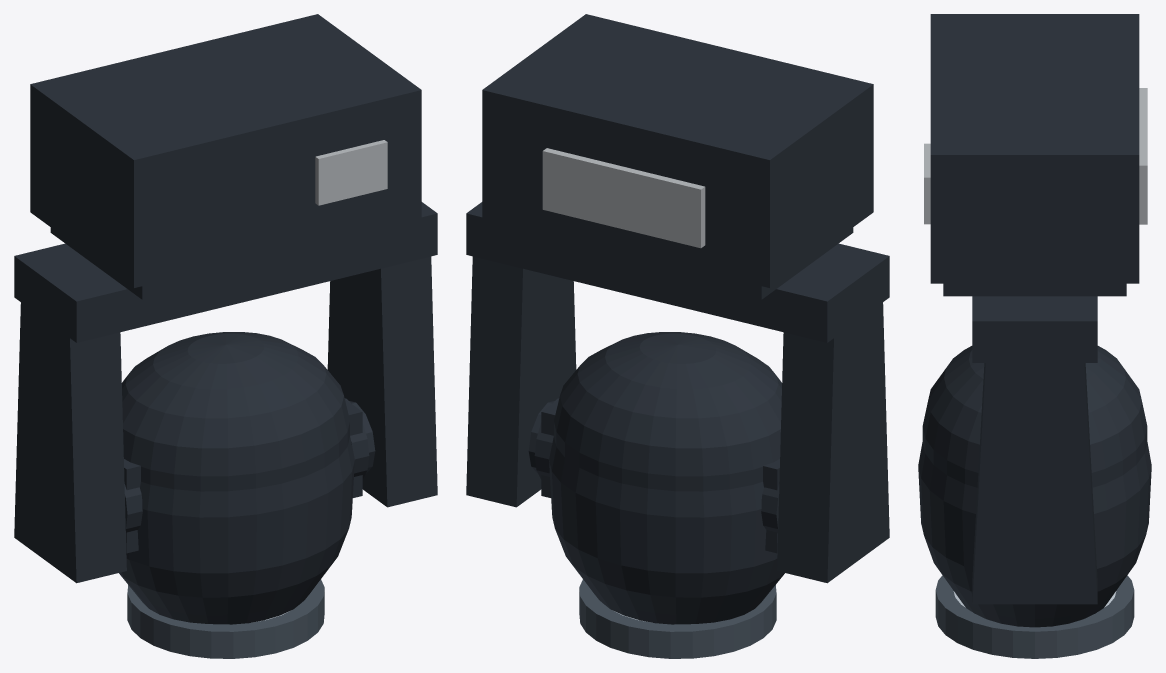
The model's file is moving-head-wash-no-clamp.glb.
3 renders of one model, left to right at view 1: azimuth 30°, elevation 25°; view 2: azimuth 150°, elevation 25°; view 3: azimuth 270°, elevation 25°, orthographic.
Visible parts, largest first — view 1: moving-base, head-body, yoke-left, yoke-right, yoke-crossbar, lens-ring, base-display, head-cheeks; view 2: moving-base, head-body, yoke-left, yoke-right, yoke-crossbar, base-connectors, lens-ring, head-cheeks; view 3: moving-base, yoke-right, head-body, yoke-crossbar, lens-ring, base-connectors, base-display.
Part boxes in pixels (x1,y1,x2,y2): moving-base: [30, 14, 421, 299]; head-body: [119, 332, 354, 624]; yoke-left: [14, 302, 126, 583]; yoke-right: [327, 256, 437, 507]; yoke-crossbar: [14, 202, 437, 342]; lens-ring: [127, 579, 324, 658]; base-display: [315, 140, 387, 205]; head-cheeks: [124, 398, 369, 553]; moving-base: [482, 14, 873, 299]; head-body: [549, 332, 784, 624]; yoke-left: [777, 302, 889, 583]; yoke-right: [466, 256, 576, 507]; yoke-crossbar: [466, 202, 889, 342]; base-connectors: [542, 148, 705, 248]; lens-ring: [579, 579, 776, 658]; head-cheeks: [534, 398, 779, 553]; moving-base: [930, 14, 1139, 296]; yoke-right: [972, 363, 1097, 604]; head-body: [918, 346, 1151, 627]; yoke-crossbar: [972, 296, 1097, 362]; lens-ring: [935, 575, 1134, 658]; base-connectors: [1139, 88, 1147, 224]; base-display: [924, 143, 930, 224].
Bounding box in the file's own units: 0.502 × 0.7042 × 0.28.
